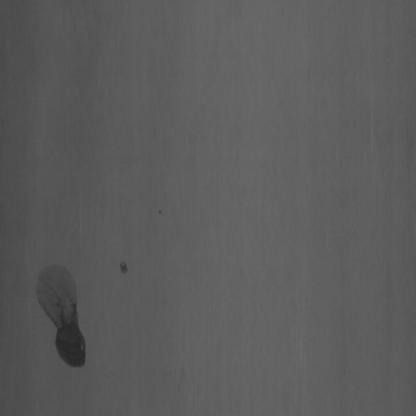oil_spot: (33, 257, 89, 374), (118, 255, 132, 279)
